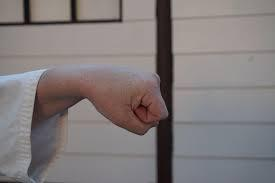Right-Fist: (69, 59, 170, 136)
